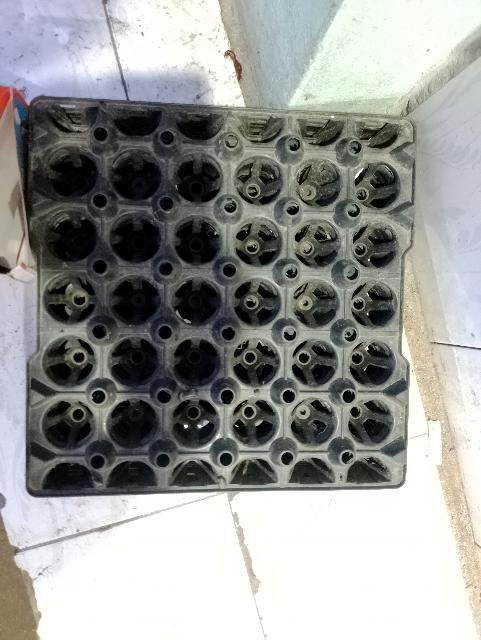hardplastic: (12, 90, 416, 500)
